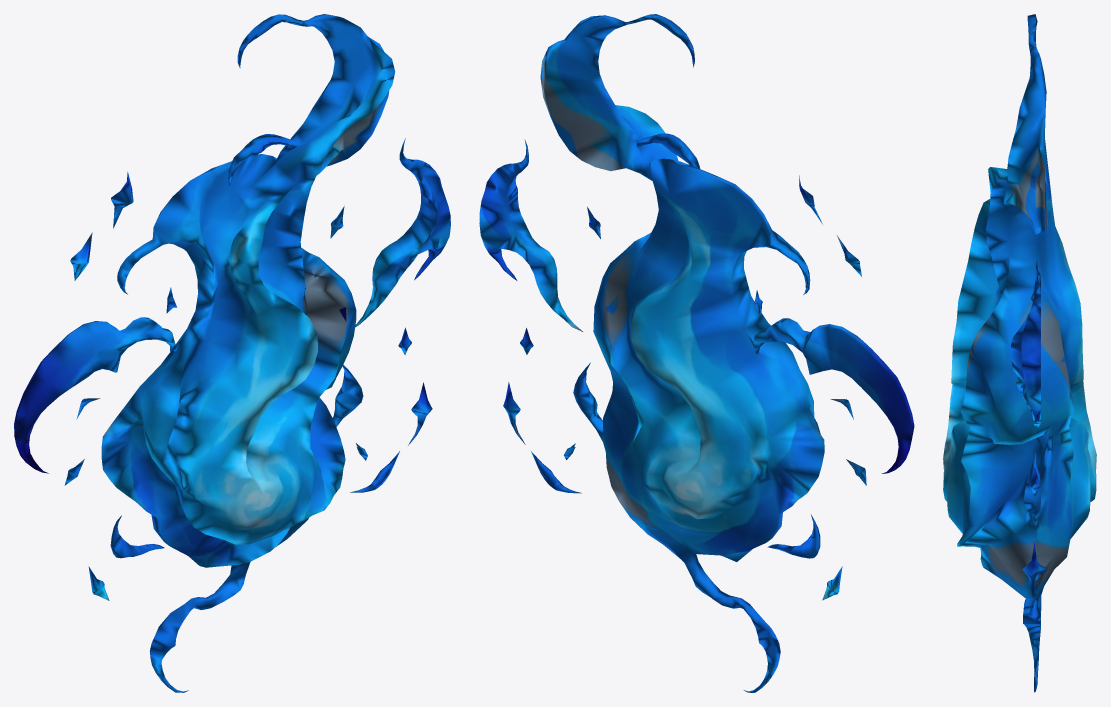
Rendered from seelenlicht.glb.
3 views of the same model, side by side, from view 1: azimuth 30°, elevation 25°; view 2: azimuth 150°, elevation 25°; view 3: azimuth 270°, elevation 25° (orthographic). The views are drawn at different scales.
Parts seen in each view (by area): view 1: baum; view 2: baum; view 3: baum.
Part boxes in pixels (x1,y1,x2,y2): baum: (14,14,450,692); baum: (479,14,914,692); baum: (943,14,1096,692).
Bounding box in the file's own units: 0.554 × 0.8 × 0.1542.
1 material, 1 textured.
